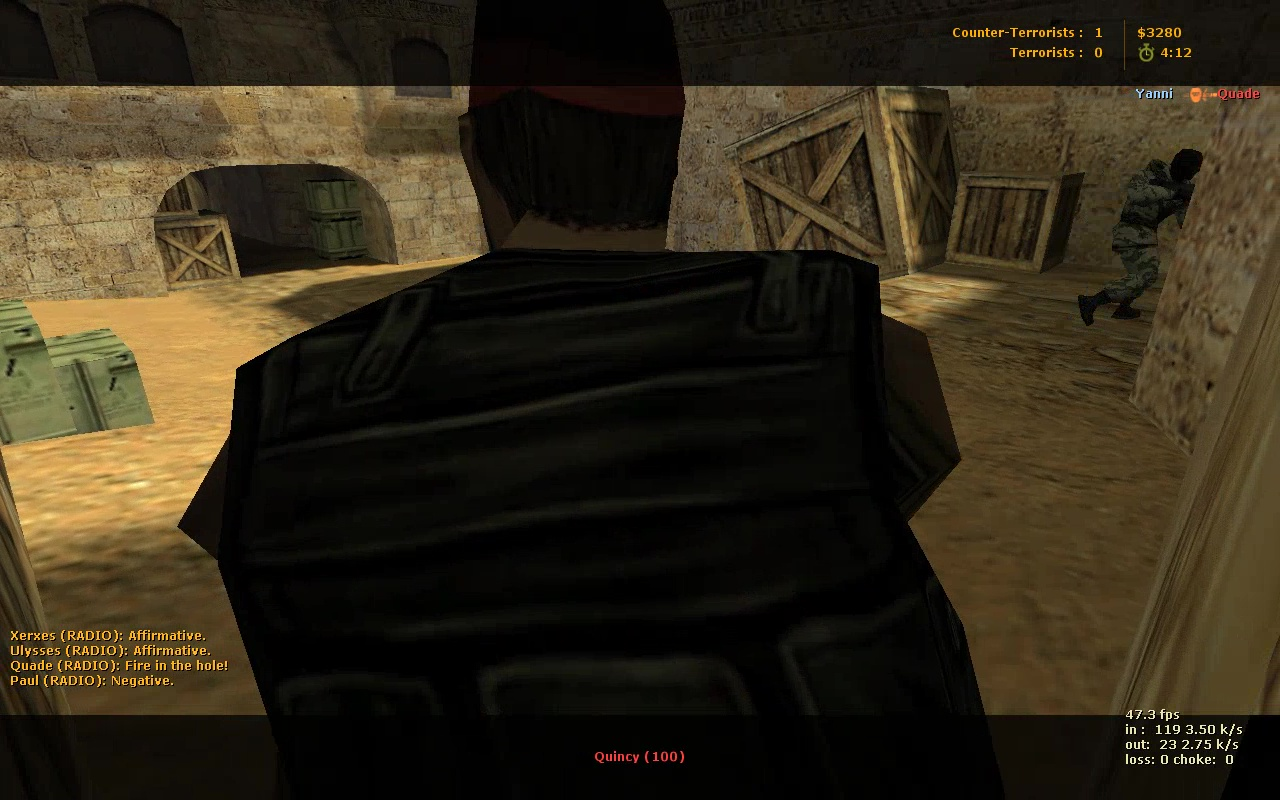terr2: (1078, 147, 1201, 328)
